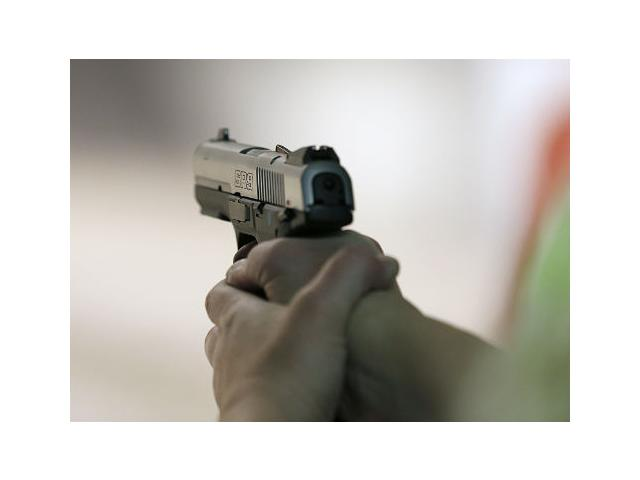pistol: (184, 128, 356, 377)
